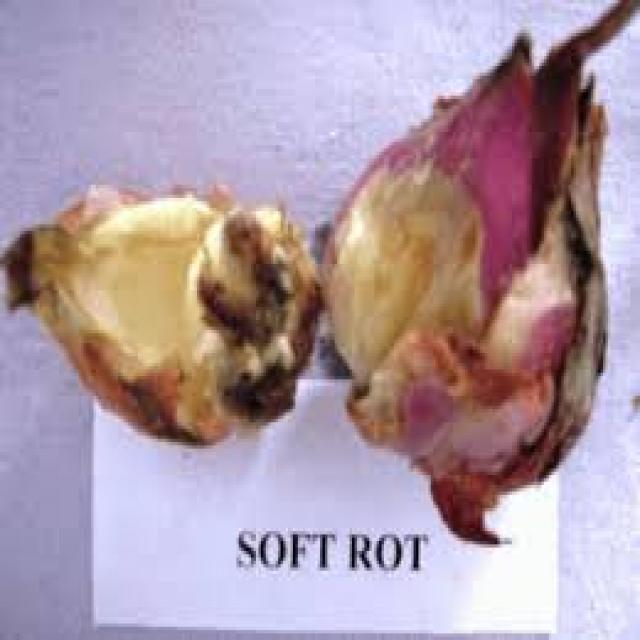Onion: (309, 2, 640, 547), (3, 179, 327, 446)
